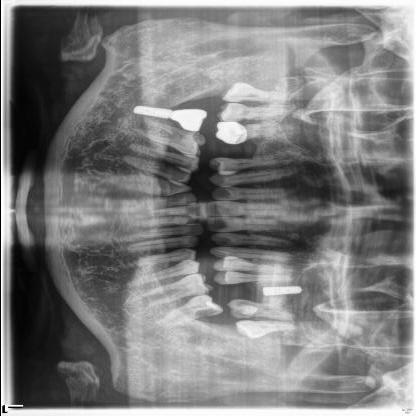ITI: (132, 105, 174, 119), (258, 285, 304, 297)
